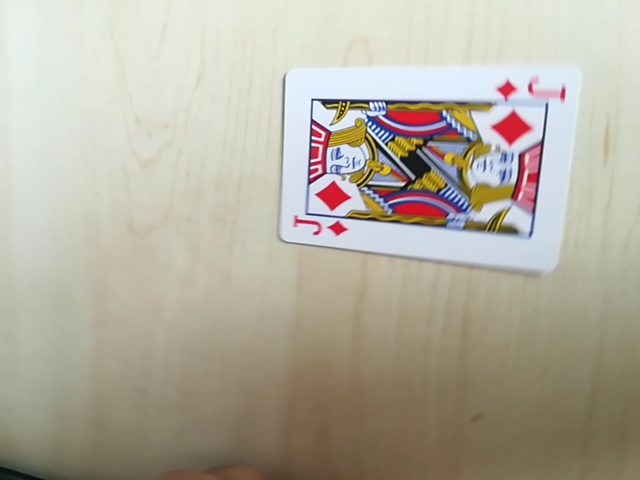fk j: (495, 70, 567, 107), (290, 215, 348, 245)
